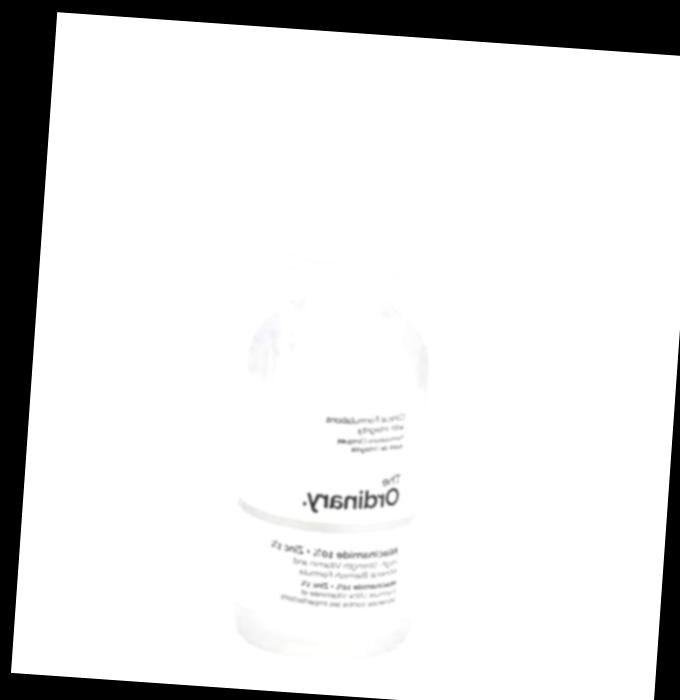cosmetic: (224, 80, 449, 663)
